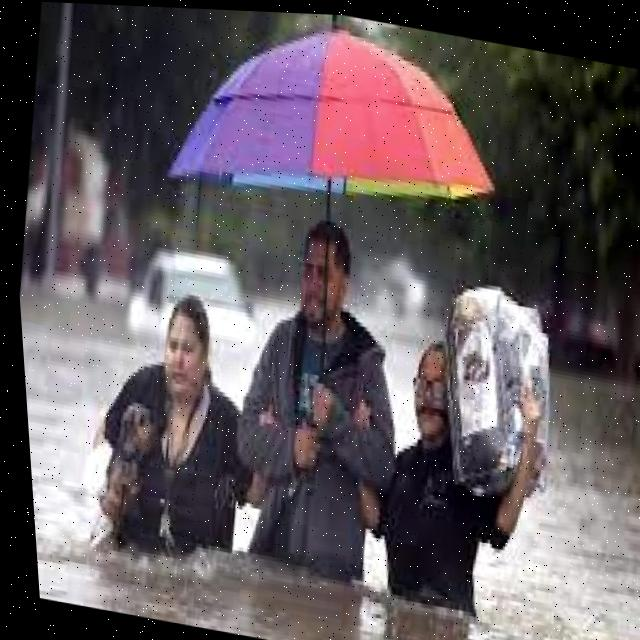civilian: (209, 206, 426, 607), (351, 331, 580, 640), (65, 280, 272, 568)
dog: (73, 395, 196, 554)
